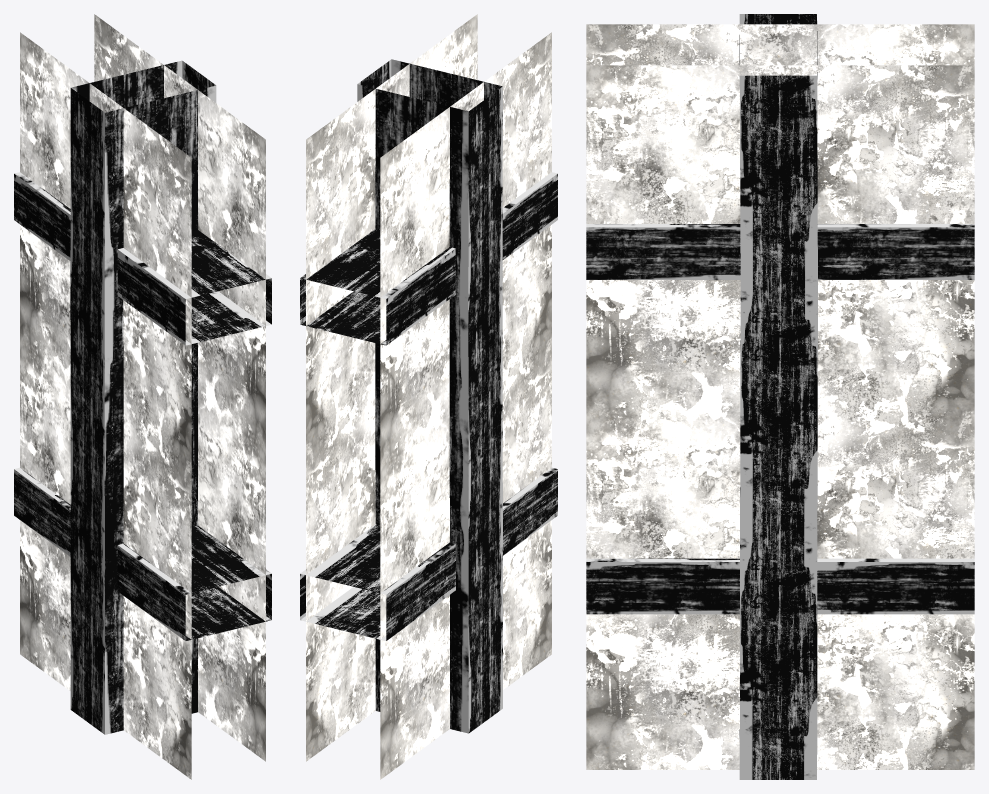
File: SM_wall_A_2x4_02_03.fbx
3 renders of one model, left to right at view 1: azimuth 30°, elevation 25°; view 2: azimuth 150°, elevation 25°; view 3: azimuth 270°, elevation 25°, orthographic. The views are drawn at different scales.
Parts seen in each view (by area): view 1: SM_wall_A_2x4_02_03_LOD0; view 2: SM_wall_A_2x4_02_03_LOD0; view 3: SM_wall_A_2x4_02_03_LOD0.
Part boxes in pixels (left/top/right/bottom): SM_wall_A_2x4_02_03_LOD0: left=14, top=14, right=271, bottom=779; SM_wall_A_2x4_02_03_LOD0: left=300, top=14, right=557, bottom=779; SM_wall_A_2x4_02_03_LOD0: left=586, top=14, right=974, bottom=779.
Size of the model in its own units: 75 by 200 by 400.
Materials: 3 (3 with a texture image).
